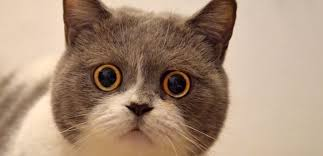cat: (53, 1, 238, 156)
